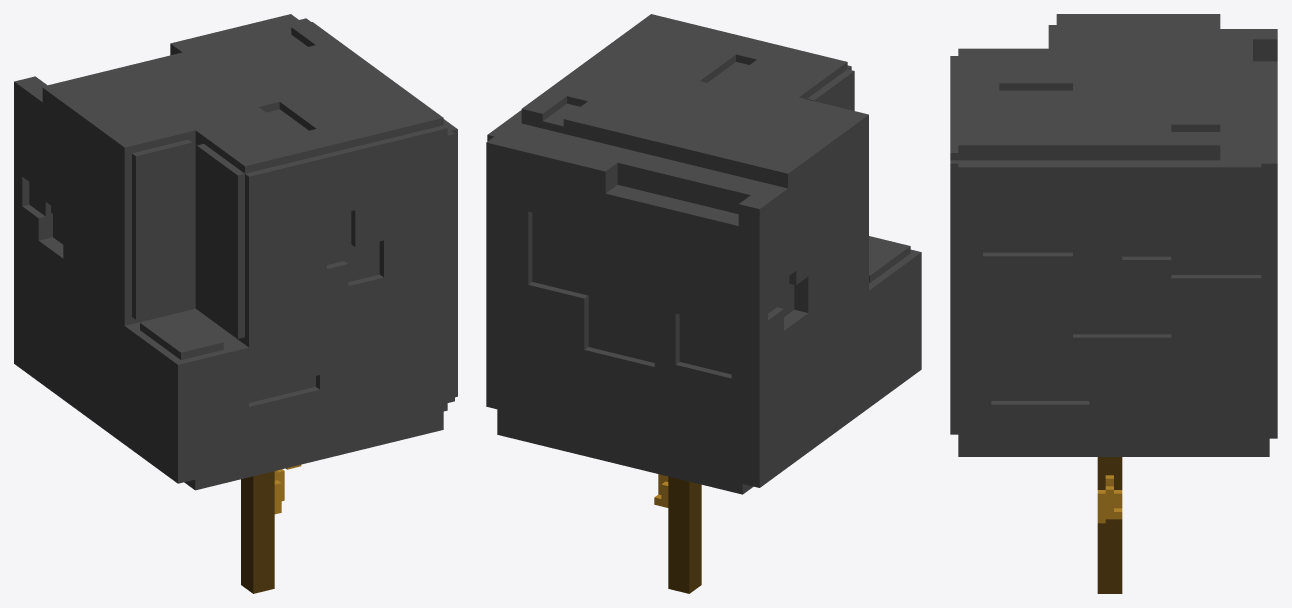
Rendered from Tree.obj.
The picture shows the model from 3 angles, left to right: view 1: azimuth 30°, elevation 25°; view 2: azimuth 150°, elevation 25°; view 3: azimuth 270°, elevation 25°; orthographic projection.
Size of the model in its own units: 4 by 6.7 by 4.
